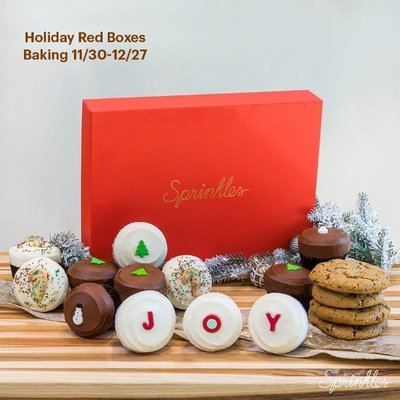salad: (309, 258, 390, 296), (262, 262, 313, 299)
sushi: (298, 225, 352, 270)
